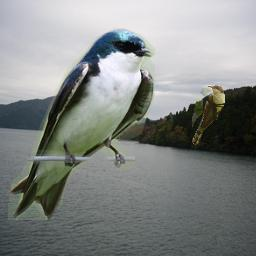Cuckoo: (192, 85, 225, 145)
Swallow: (7, 28, 155, 220)
